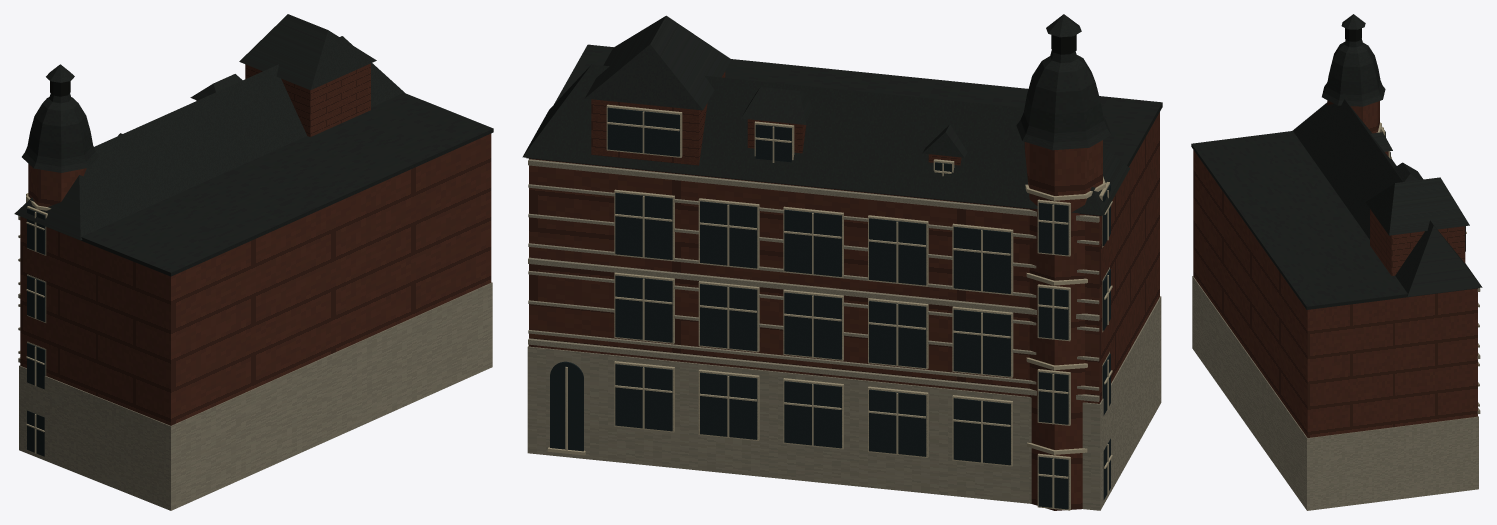
3 views of the same model, side by side, from view 1: azimuth 30°, elevation 25°; view 2: azimuth 150°, elevation 25°; view 3: azimuth 270°, elevation 25° (orthographic). The views are drawn at different scales.
Parts seen in each view (by area): view 1: marx-bank-zuidblaak-0, marx-bank-zuidblaak-3, marx-bank-zuidblaak-5, marx-bank-zuidblaak-2, marx-bank-zuidblaak-1; view 2: marx-bank-zuidblaak-0, marx-bank-zuidblaak-2, marx-bank-zuidblaak-3, marx-bank-zuidblaak-5, marx-bank-zuidblaak-1; view 3: marx-bank-zuidblaak-0, marx-bank-zuidblaak-3, marx-bank-zuidblaak-5.
Part boxes in pixels (x1,y1,x2,y2): marx-bank-zuidblaak-0: (20, 63, 491, 425); marx-bank-zuidblaak-3: (14, 14, 493, 276); marx-bank-zuidblaak-5: (18, 216, 492, 510); marx-bank-zuidblaak-2: (27, 208, 45, 456); marx-bank-zuidblaak-1: (26, 193, 51, 453); marx-bank-zuidblaak-0: (529, 71, 1159, 510); marx-bank-zuidblaak-2: (550, 107, 1110, 509); marx-bank-zuidblaak-3: (522, 14, 1162, 215); marx-bank-zuidblaak-5: (527, 159, 1161, 510); marx-bank-zuidblaak-1: (547, 104, 1112, 510); marx-bank-zuidblaak-0: (1193, 100, 1477, 437); marx-bank-zuidblaak-3: (1191, 14, 1482, 309); marx-bank-zuidblaak-5: (1192, 276, 1480, 510).
Bounding box in the file's own units: 29.74 × 24.4 × 19.66.
6 materials, 6 textured.
